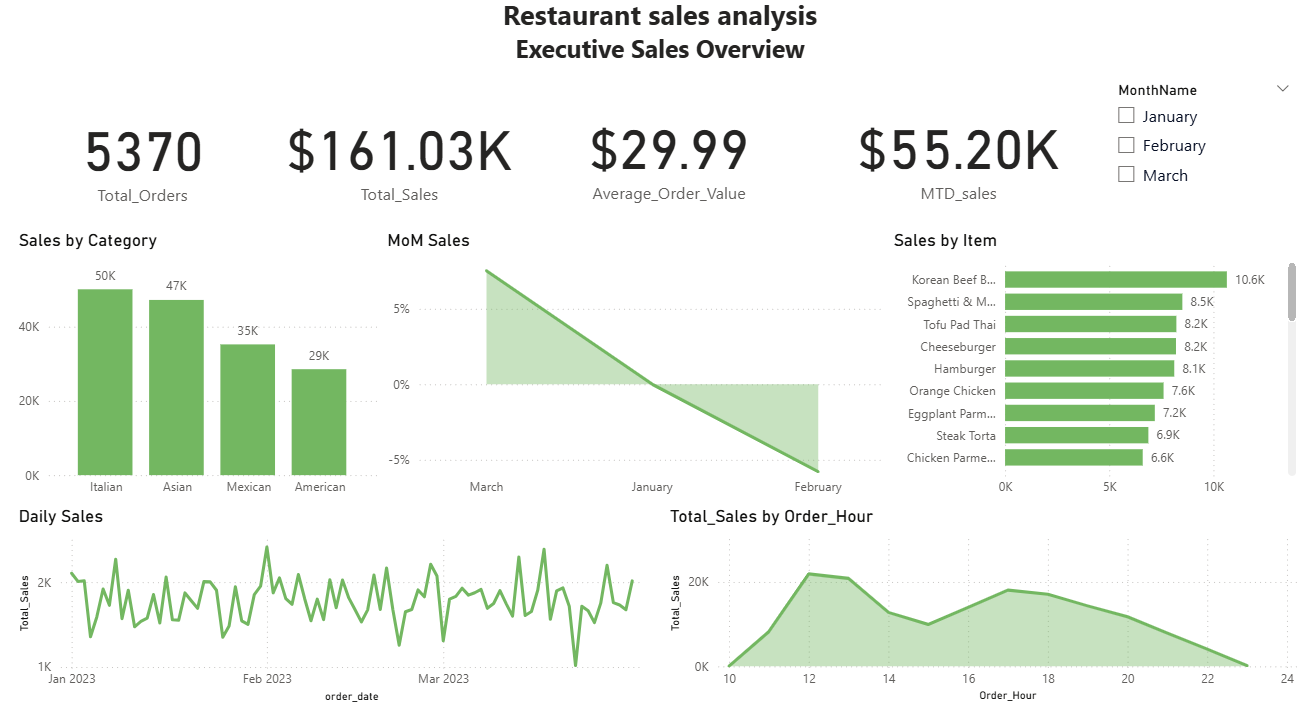

What the dashboard file says about the page in this screenshot:
{"tool":"powerbi","page":{"name":"Executive Sales Overview","canvas":[1280,720],"ordinal":0},"visuals":[{"type":"card","fields":{"Values":["order_details.TotalOrders"]},"box":[13.8,86.2,252.5,148.8],"z":0},{"type":"card","fields":{"Values":["order_details.AverageOrderValue"]},"box":[514.8,84.4,280,149.2],"z":1000},{"type":"textbox","box":[187.1,0,917.1,84.4],"z":2000},{"type":"card","fields":{"Values":["order_details.Total_Sales"]},"box":[266.2,85,248.8,148.8],"z":3000},{"type":"card","fields":{"Values":["order_details.MTD_sales"]},"box":[794.8,84.4,286.1,149.2],"z":4000},{"type":"clusteredColumnChart","title":"Sales by Category","fields":{"Y":["order_details.Total_Sales"],"Category":["menu_items.category"]},"box":[13.5,233.6,360.7,270.2],"z":5000},{"type":"clusteredBarChart","title":"Sales by Item","fields":{"Category":["menu_items.item_name"],"Y":["order_details.Total_Sales"]},"box":[870,233.8,403.8,270],"z":6000},{"type":"lineChart","title":"Daily Sales","fields":{"Y":["order_details.Total_Sales"],"Category":["order_details.order_date"]},"box":[13.8,503.8,636.2,197.5],"z":7000},{"type":"areaChart","title":"MoM Sales","fields":{"Category":["Date_Table.MonthName"],"Y":["order_details.MoM_Sales%"]},"box":[373.8,233.8,496.2,270],"z":8000},{"type":"slicer","fields":{"Values":["Date_Table.MonthName"]},"box":[1081,83,193,150],"z":9000},{"type":"areaChart","fields":{"Y":["order_details.Total_Sales"],"Category":["order_details.Order_Hour"]},"box":[650.5,503.8,623.6,196.9],"z":10000}]}

Visuals, with their boxes on the page's 1280x720 design canvas (x1, y1, x2, y2). These are canvas units, not pixel positions in the 1307x712 screenshot, which may show the page scaled, cropped or inside an application window:
card - order_details.TotalOrders: (14,86,266,235)
card - order_details.AverageOrderValue: (515,84,795,234)
textbox: (187,0,1104,84)
card - order_details.Total_Sales: (266,85,515,234)
card - order_details.MTD_sales: (795,84,1081,234)
"Sales by Category" clusteredColumnChart: (14,234,374,504)
"Sales by Item" clusteredBarChart: (870,234,1274,504)
"Daily Sales" lineChart: (14,504,650,701)
"MoM Sales" areaChart: (374,234,870,504)
slicer - Date_Table.MonthName: (1081,83,1274,233)
areaChart - order_details.Total_Sales x order_details.Order_Hour: (650,504,1274,701)
